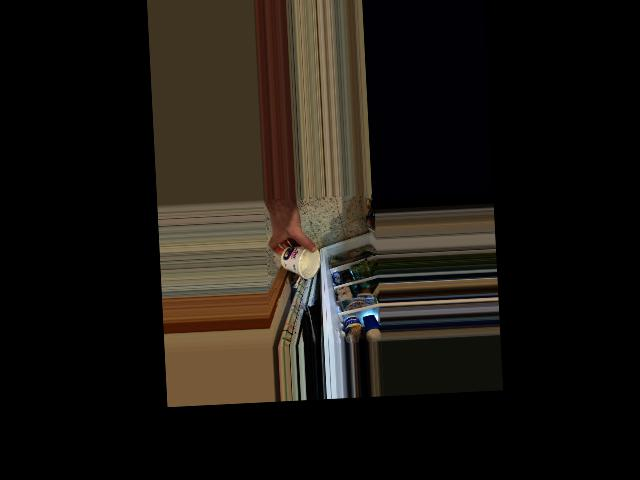cotage: (284, 245, 316, 282)
